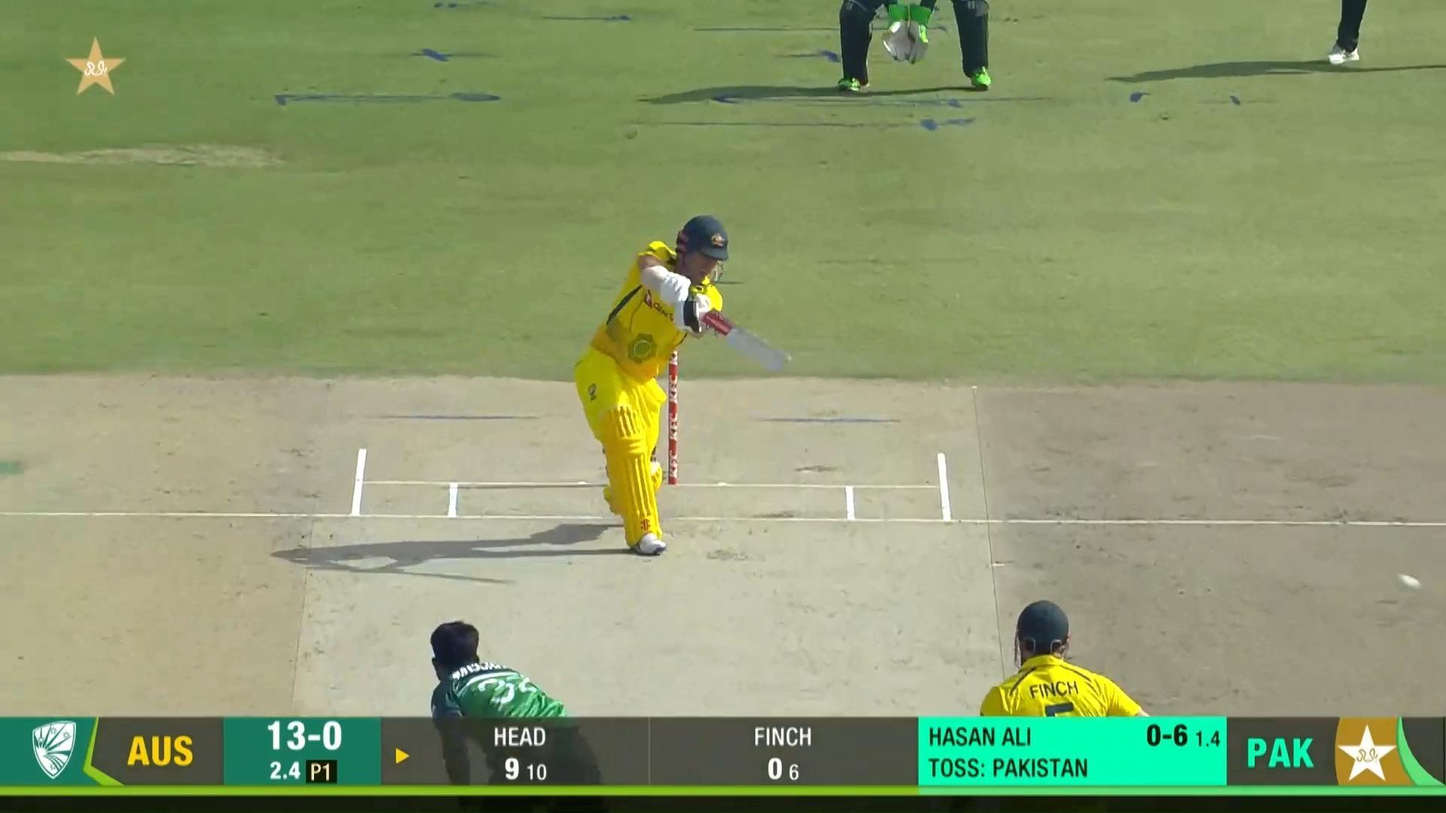BM 1: (574, 214, 794, 557)
BO: (429, 619, 571, 718)
